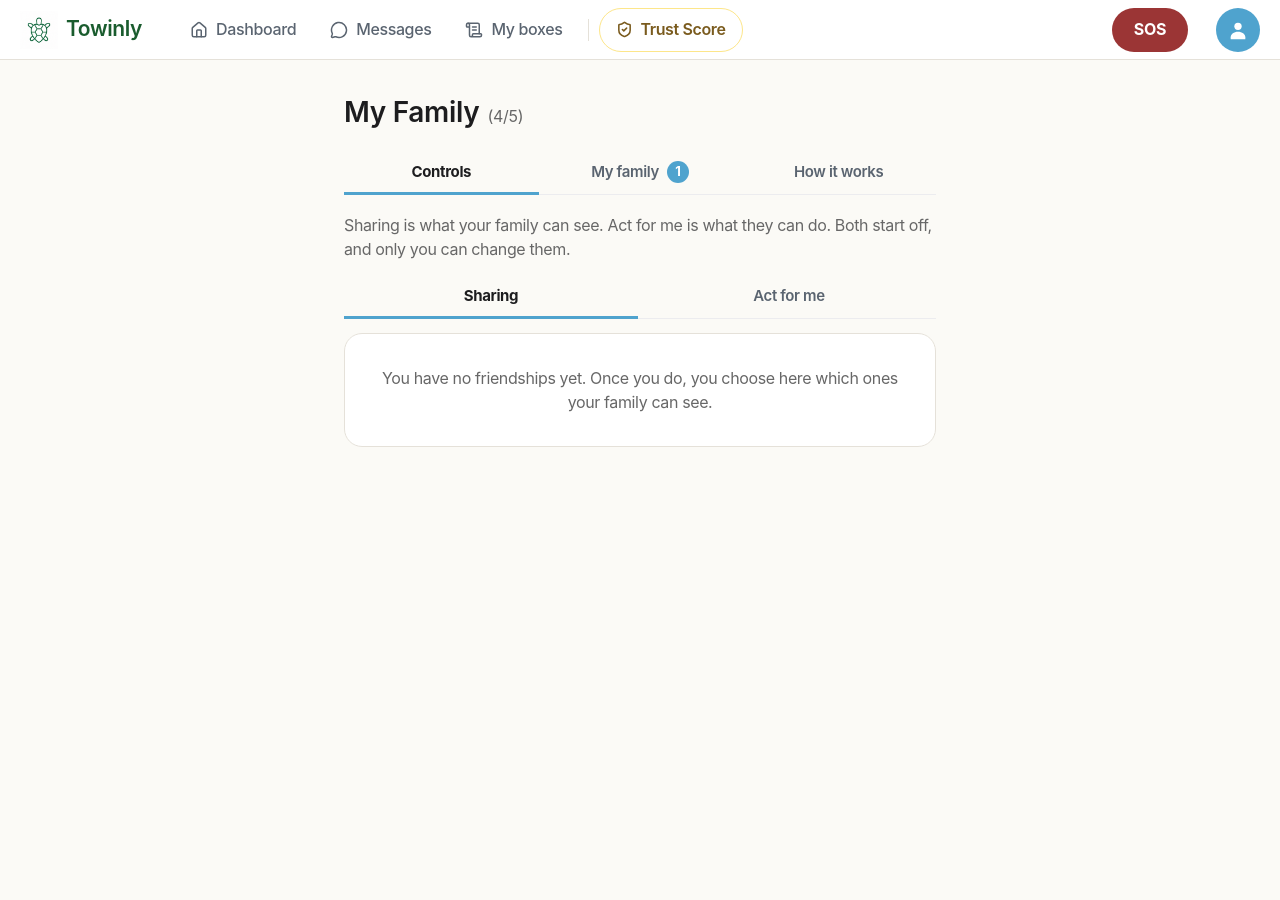
Scenario: MyFamily › loads and shows family, incoming and outgoing requests
Click the tab "My family 1": [640, 173] box [543,151,737,195]
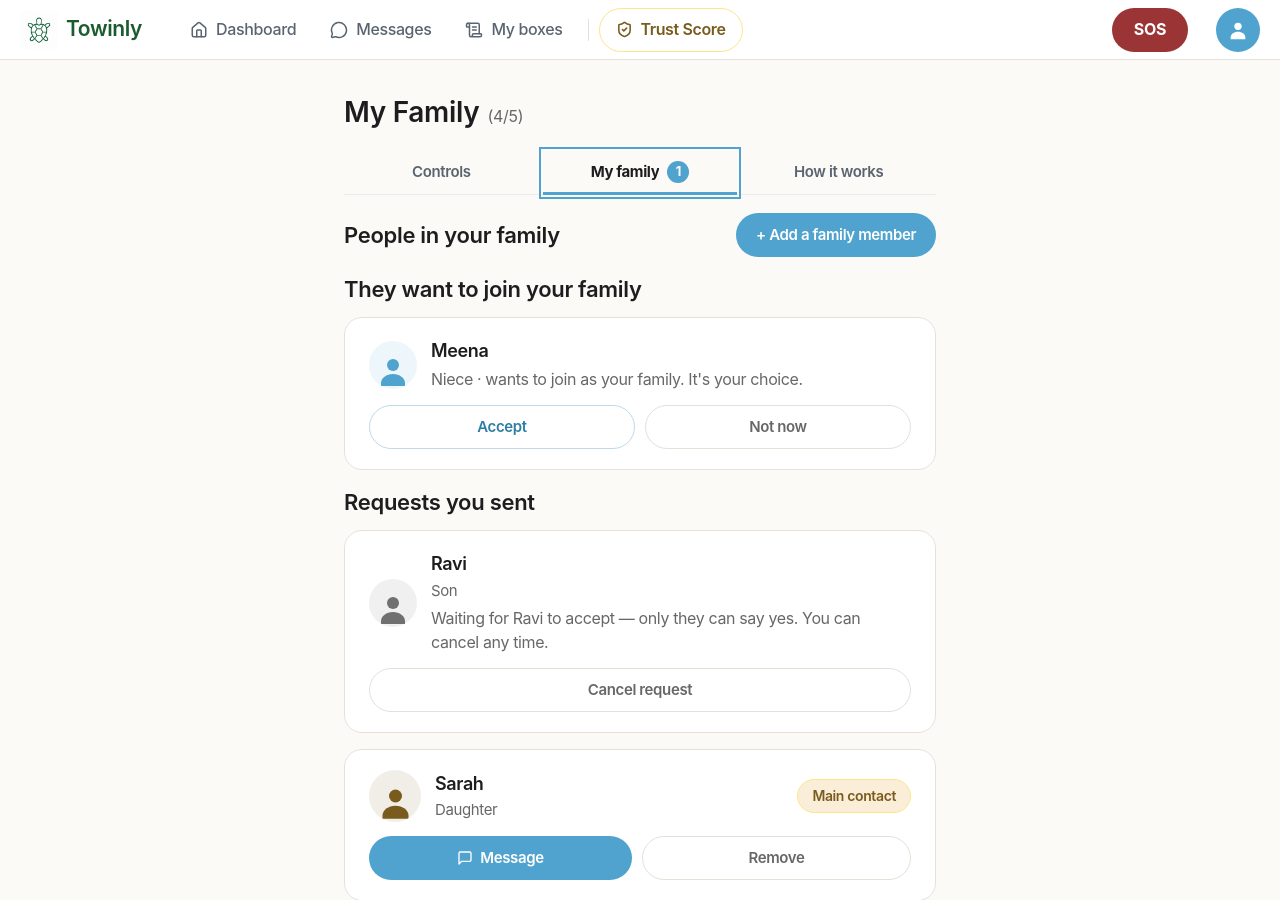
Expected: the text "Sarah" is shown, [435,773,484,794]
Expected: the text "Meena" is shown, [431,340,488,362]
Expected: the button "Accept" is shown, [369,405,635,449]
